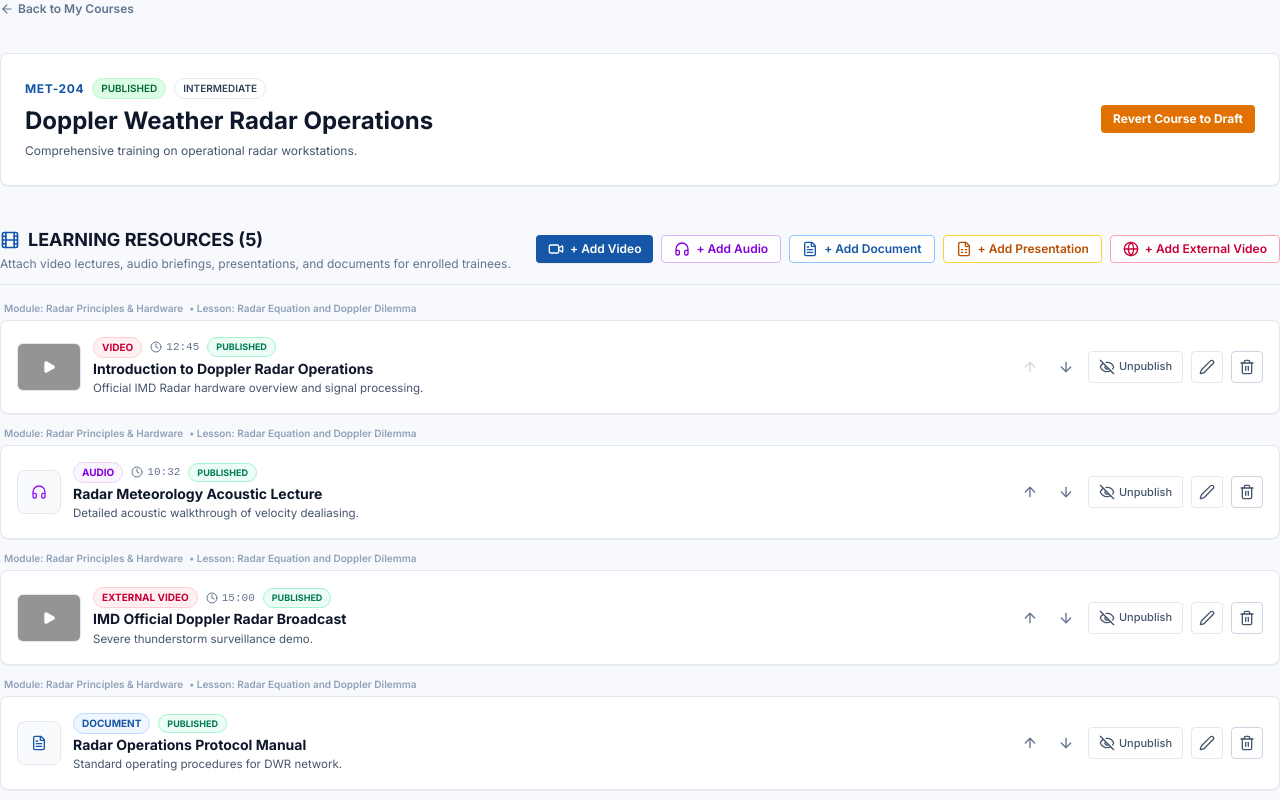
Test: Course Video & Audio Learning Resources Feature Suite › opens edit modal with pre-filled title for existing resource
Check: the heading "Introduction to Doppler Radar Operations" is shown, box [93, 360, 373, 376]
Note: Click the first "Edit Resource" button (by title attribute)
Click the button titled "Edit Resource" in the row of "Introduction to Doppler Radar Operations" at (1207, 367), box [1191, 351, 1223, 383]
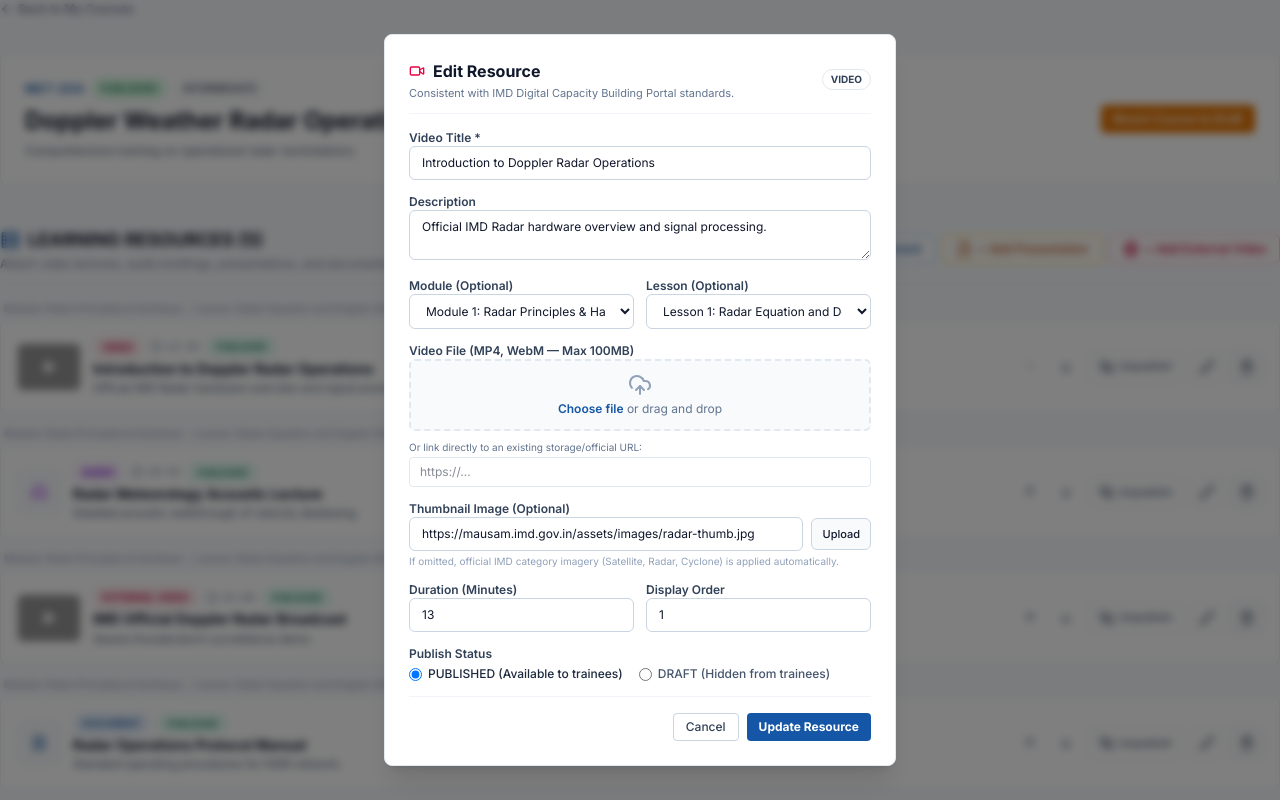
Check: the heading "Edit Resource" is shown, box [409, 61, 540, 81]
Check: the field showing "Introduction to Doppler Radar Operations" below "Video Title *" is shown, box [409, 146, 871, 180]
